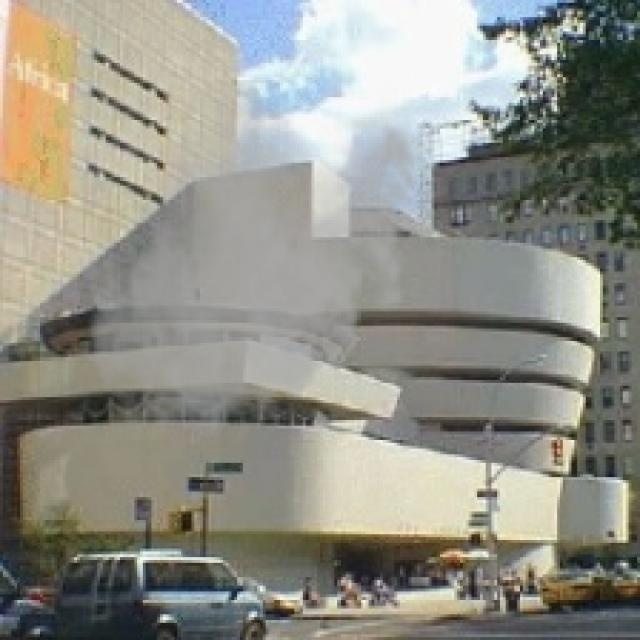smoke: (80, 80, 429, 451)
